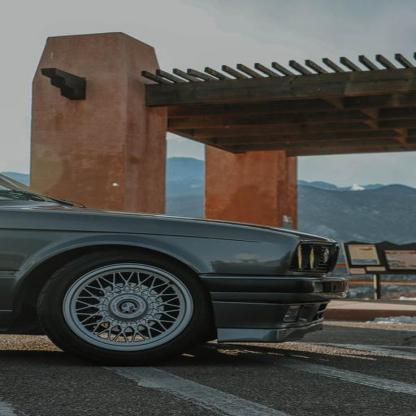Tire: (35, 247, 214, 367)
